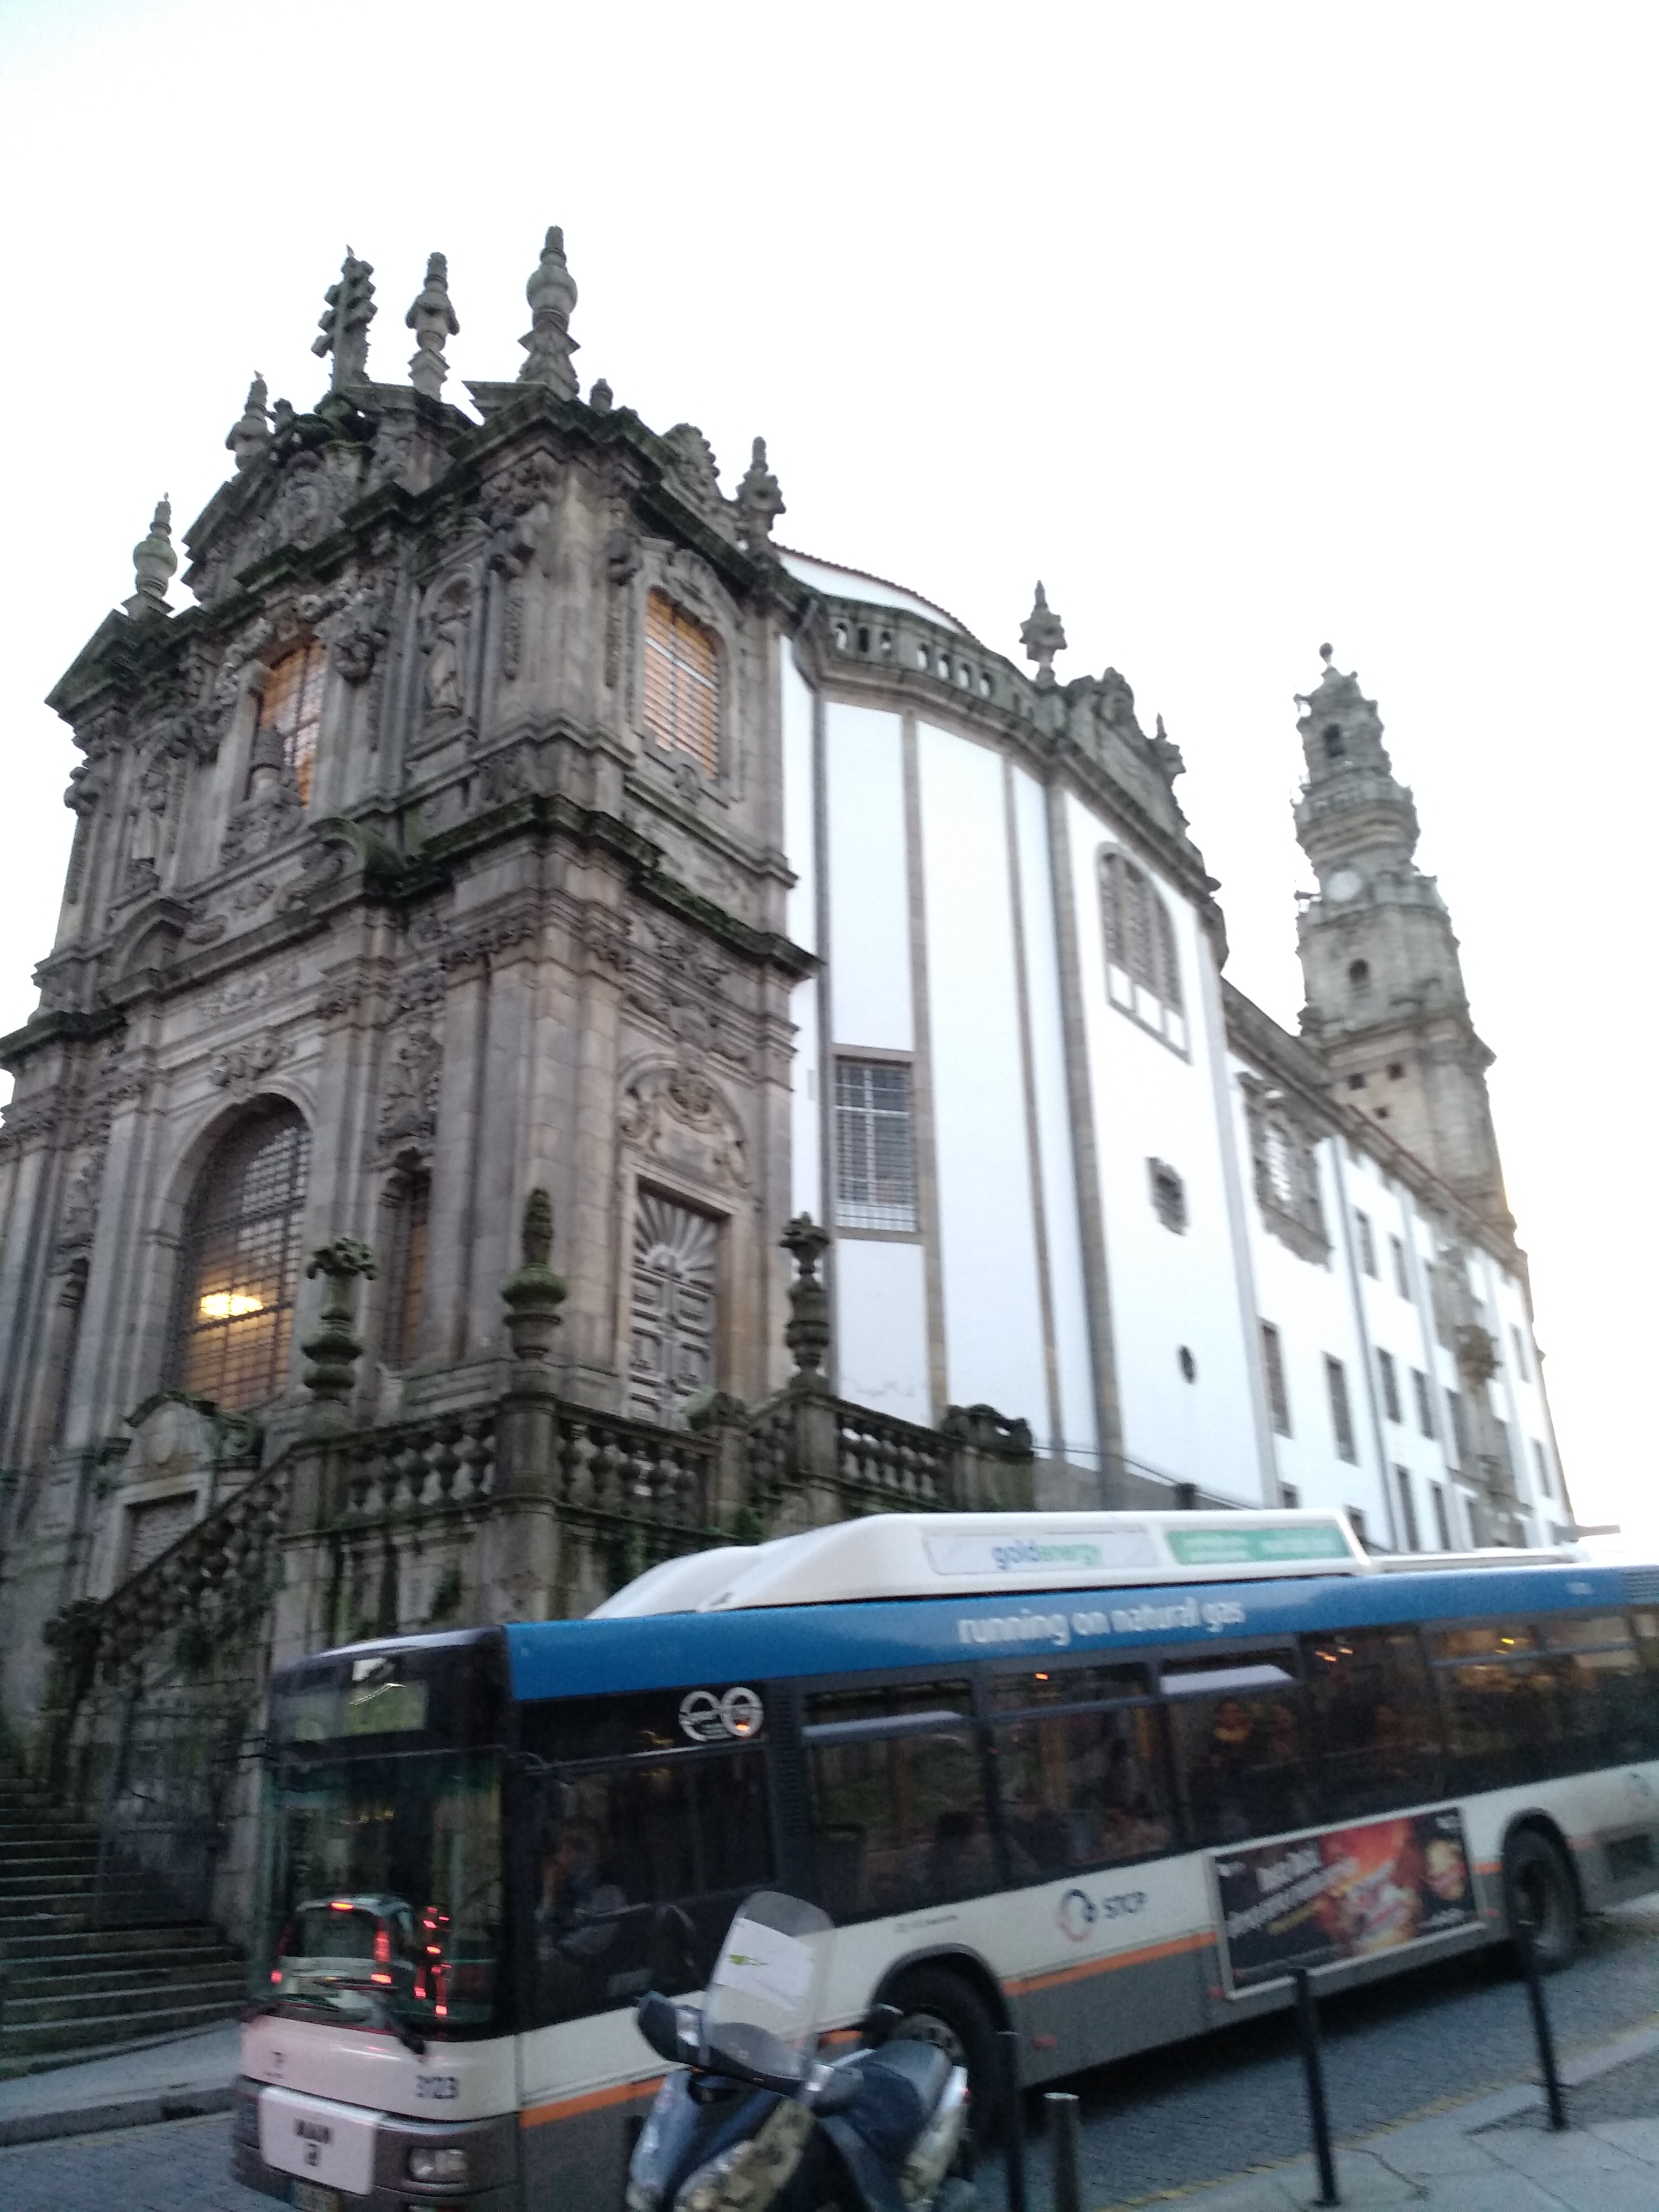clerigos: (1239, 627, 1535, 1238)
